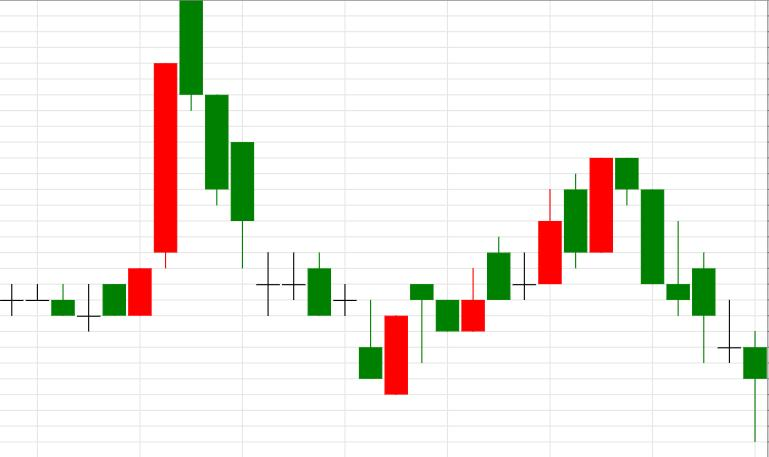inverse_hammer_rise: (179, 1, 382, 378)
